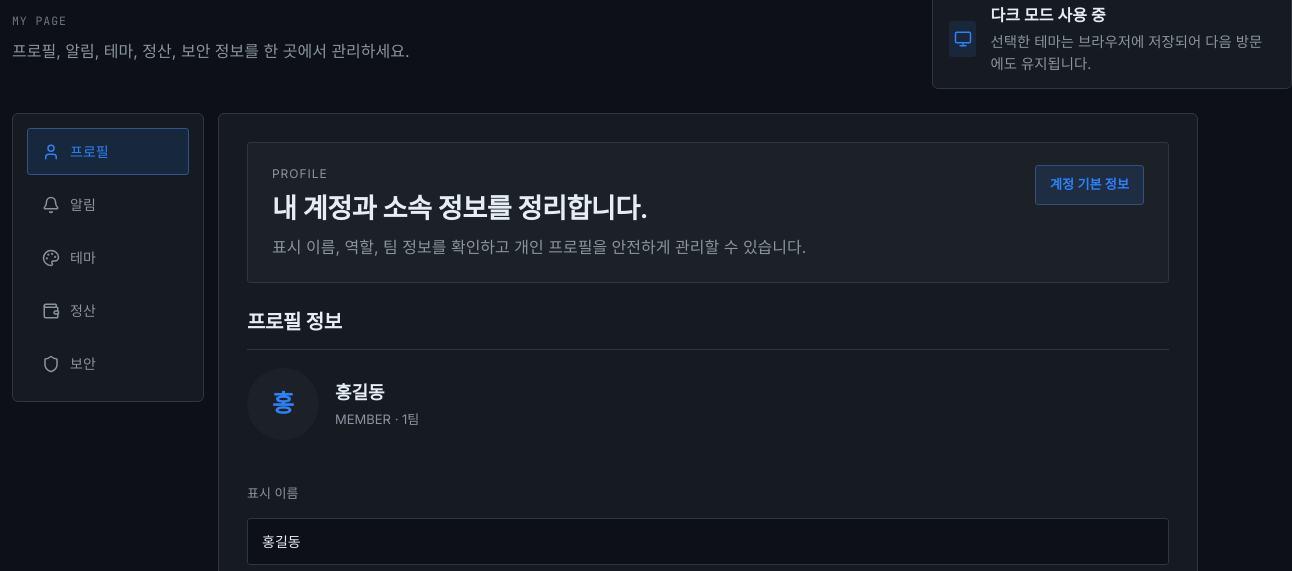
Test: Settings 페이지 › 비밀번호 변경 › 새 비밀번호가 비어있으면 에러 메시지가 표시된다
The width and height of the screenshot is (1292, 571).
Click the button "보안" at {"x": 108, "y": 364}, box [27,340,189,387]
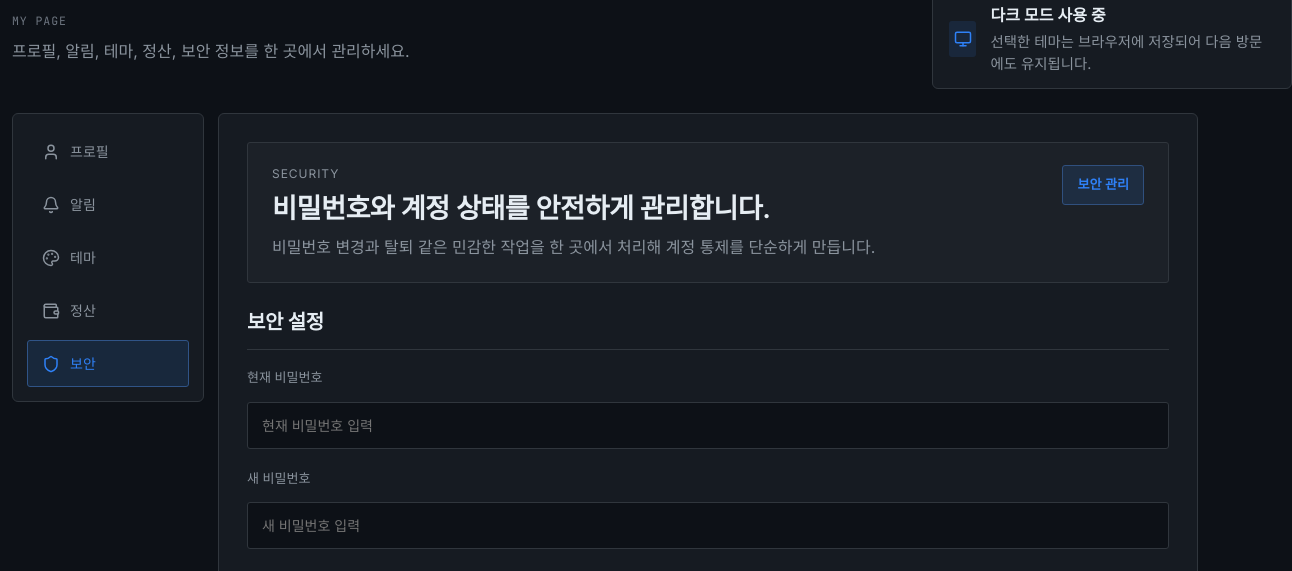
Type "old1234!" into the password field with placeholder "현재 비밀번호 입력" at {"x": 708, "y": 425}, box [247,402,1169,449]
(page scrolled)
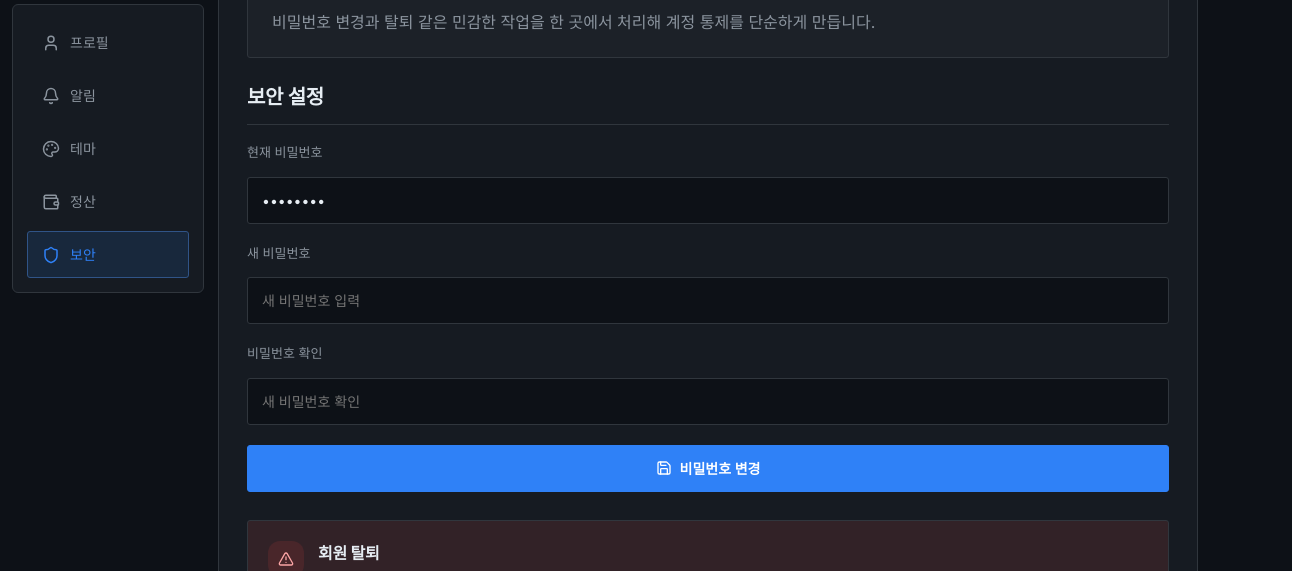
Click the button "비밀번호 변경" at {"x": 708, "y": 468}, box [247,445,1169,492]
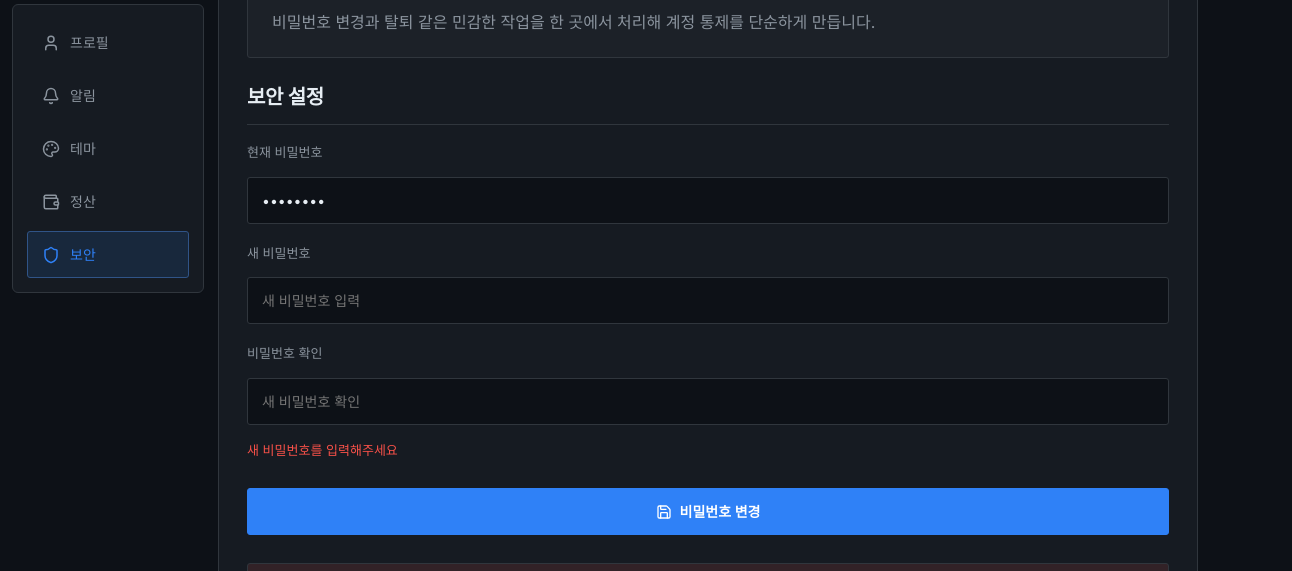
Check: the text "새 비밀번호를 입력해주세요" is shown, box [247,442,398,458]
